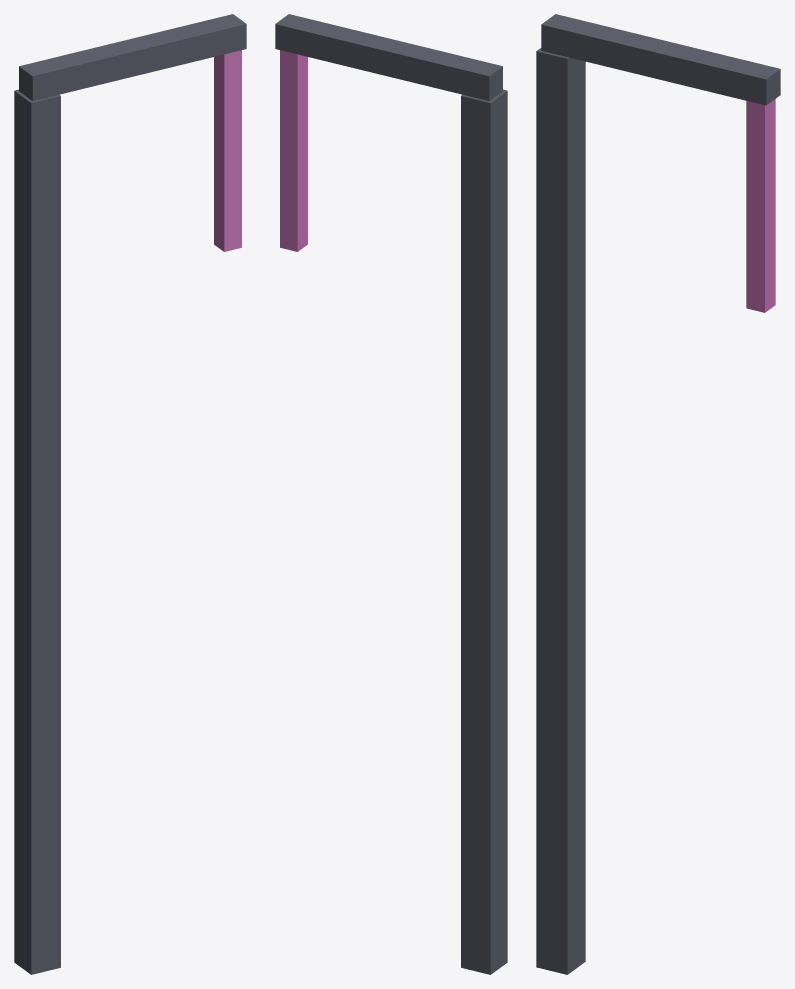
The model's file is c_laterne_a.glb.
3 views of the same model, side by side, from view 1: azimuth 30°, elevation 25°; view 2: azimuth 150°, elevation 25°; view 3: azimuth 330°, elevation 25° (orthographic). The views are drawn at different scales.
Parts seen in each view (by area): view 1: koerper, leuchten; view 2: koerper, leuchten; view 3: koerper, leuchten.
Boxes of the visible parts, x1,y1,x2,y2 form: koerper: (14, 14, 246, 974); leuchten: (214, 50, 241, 251); koerper: (275, 14, 507, 974); leuchten: (280, 50, 307, 251); koerper: (536, 14, 780, 974); leuchten: (746, 99, 775, 312).
Bounding box in the file's own units: 1.83 × 7.2 × 0.25.
